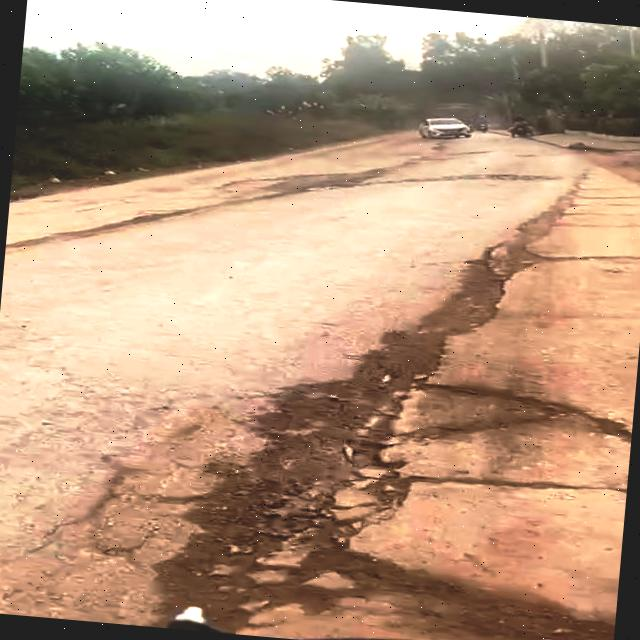pothole: (168, 354, 634, 640)
